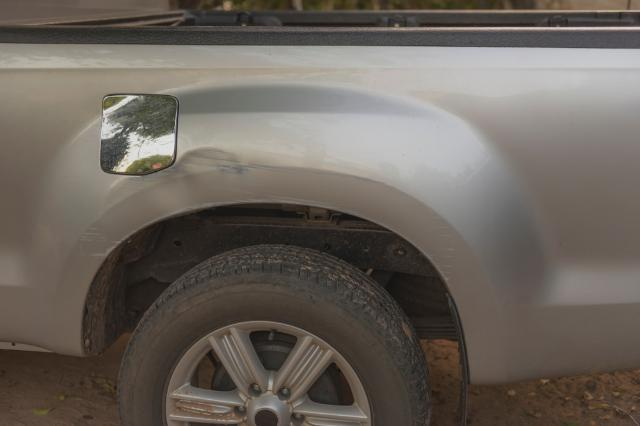dent: (100, 147, 246, 241)
scratch: (236, 159, 413, 220), (426, 214, 454, 284), (80, 222, 126, 260)
